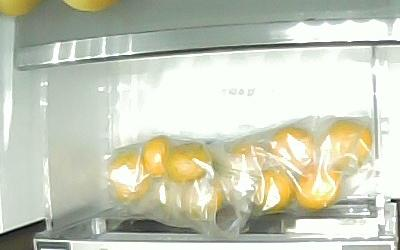tangerine_vinyl: (318, 118, 373, 168), (106, 148, 152, 204), (294, 162, 342, 210), (269, 124, 317, 169), (164, 141, 214, 183), (252, 167, 296, 212), (182, 178, 224, 220), (225, 142, 273, 175), (138, 135, 172, 180)
